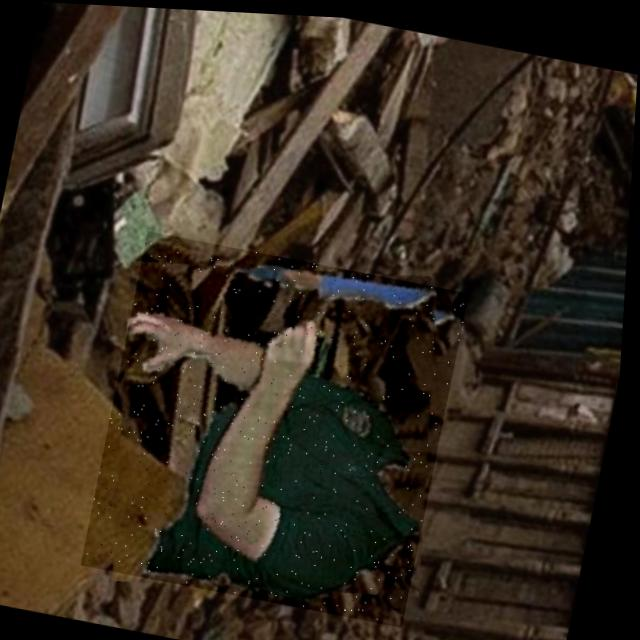Person in Rubble: (84, 228, 473, 625)
